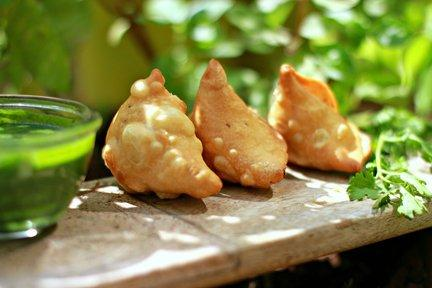samosa: (103, 69, 222, 198), (190, 60, 287, 188), (268, 64, 371, 172)
